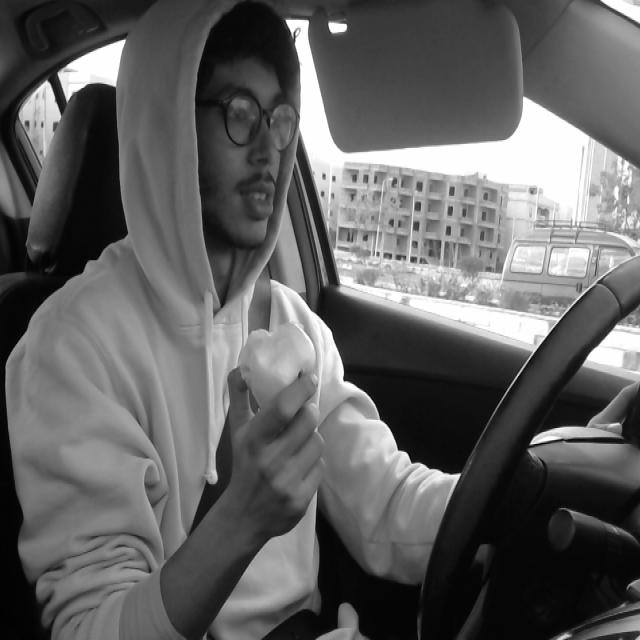eating: (238, 318, 320, 410)
